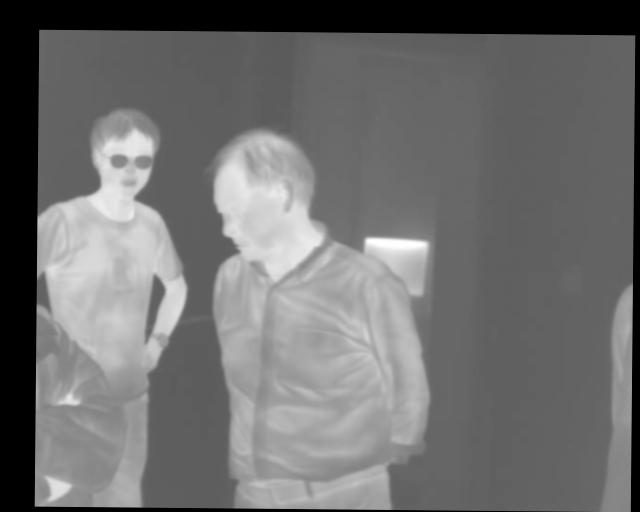face: (205, 126, 316, 262), (87, 106, 162, 197)
